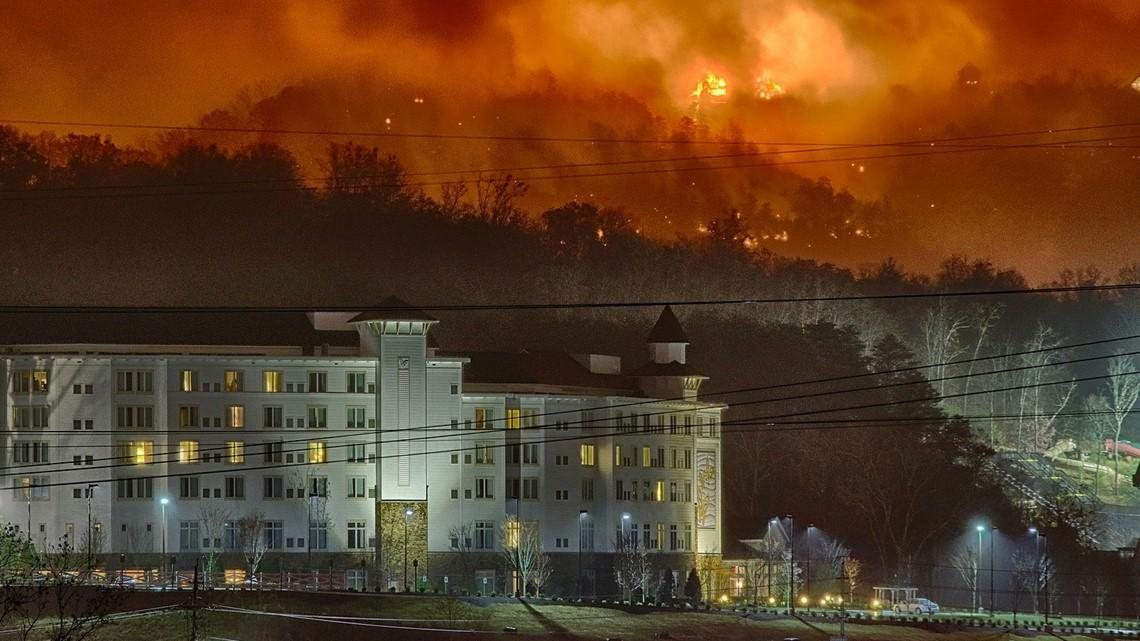Fire: (699, 187, 921, 267), (678, 53, 813, 118)
